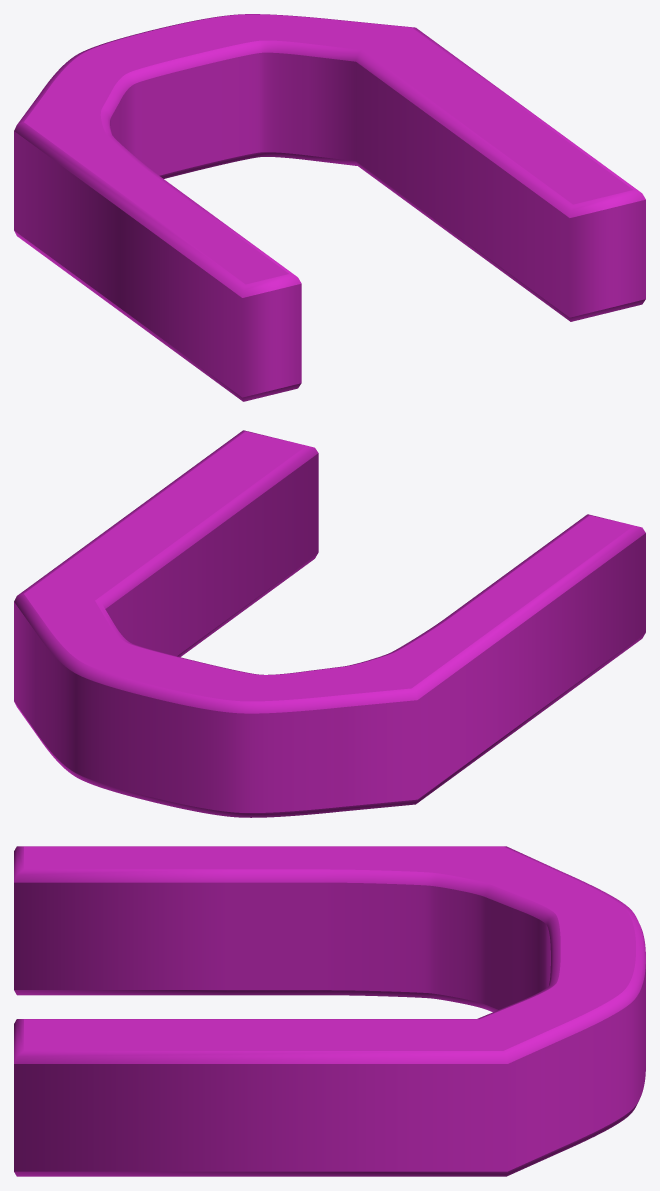
Rendered from Blocky_LetterU.fbx.
The picture shows the model from 3 angles, top to bottom: view 1: azimuth 30°, elevation 25°; view 2: azimuth 150°, elevation 25°; view 3: azimuth 270°, elevation 25°; orthographic projection. The views are drawn at different scales.
Parts seen in each view (by area): view 1: BlockyLetter_U; view 2: BlockyLetter_U; view 3: BlockyLetter_U.
Boxes of the visible parts, x1=… form: BlockyLetter_U: x1=14, y1=14, x2=645, y2=401; BlockyLetter_U: x1=14, y1=430, x2=645, y2=817; BlockyLetter_U: x1=14, y1=846, x2=645, y2=1176.
Size of the model in its own units: 0.5094 by 0.14 by 0.6393.
